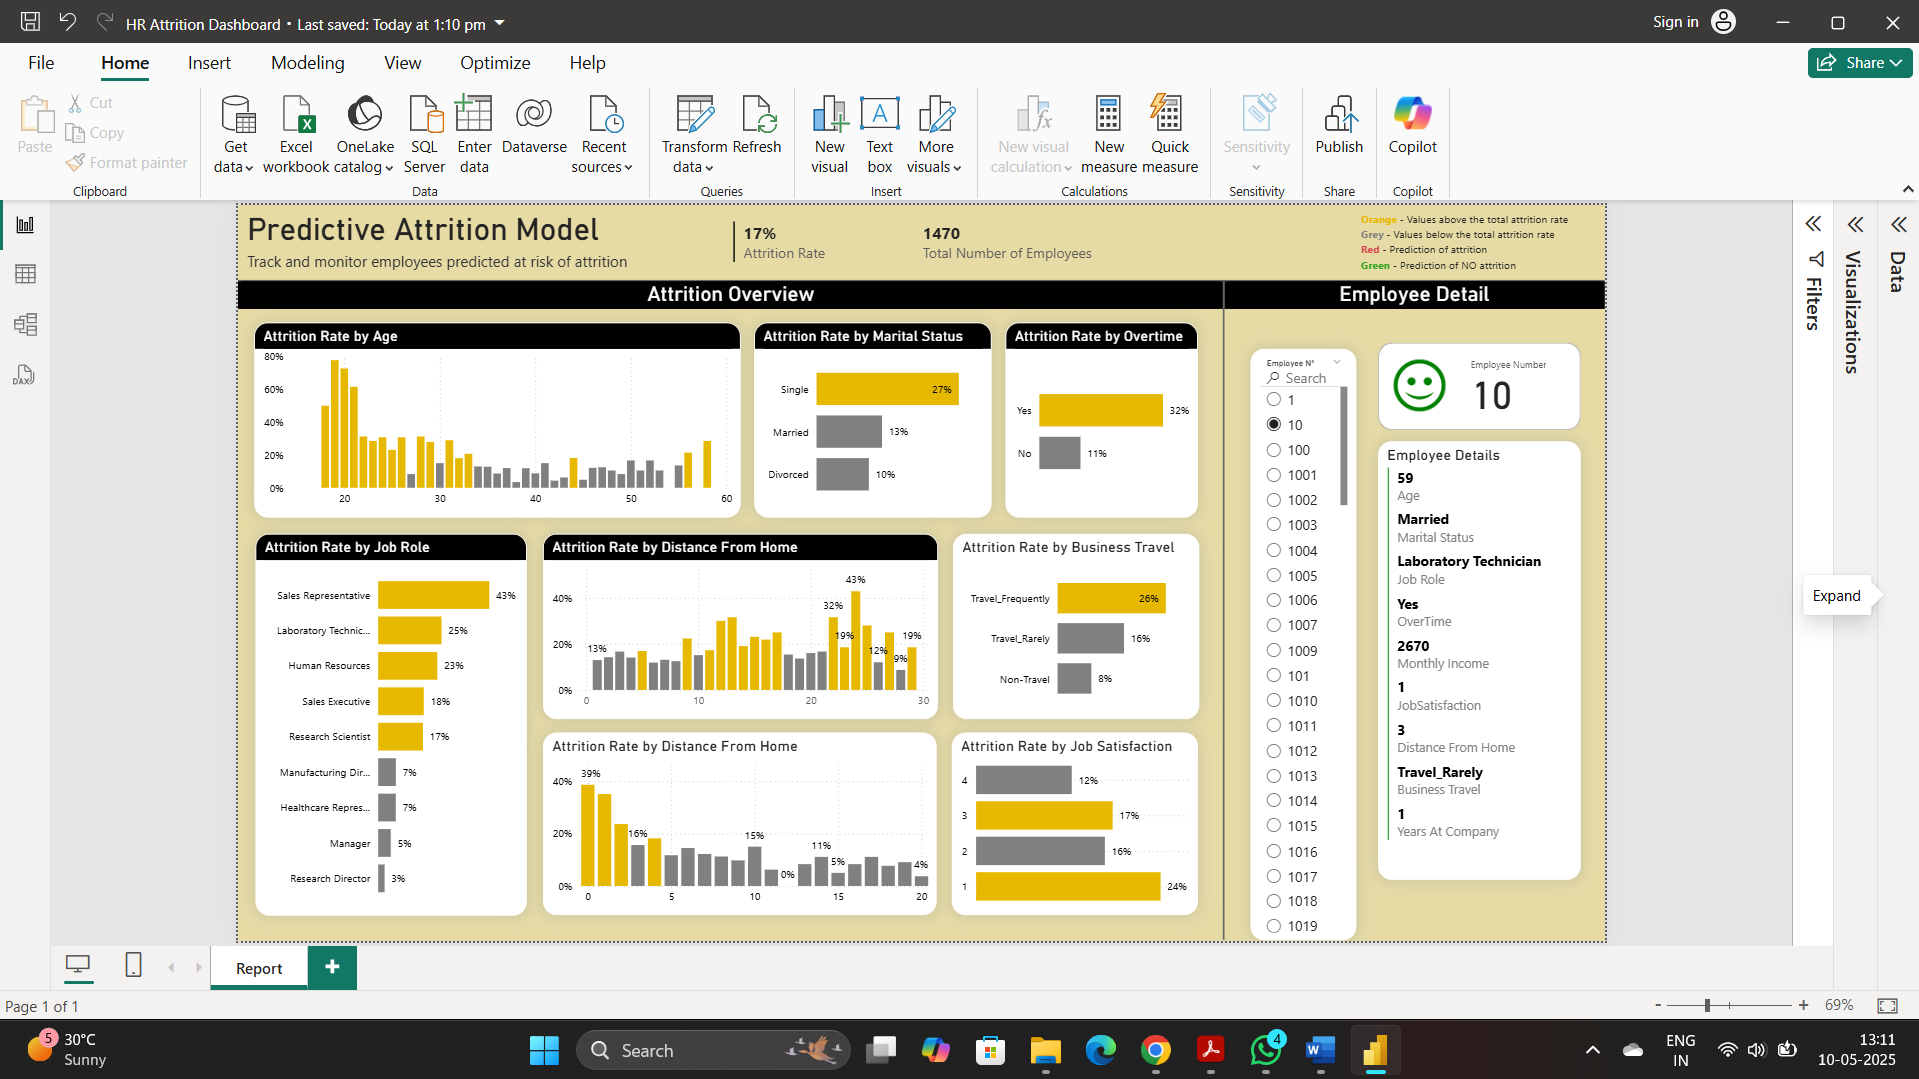

This screenshot's page, from the dashboard's own definition file:
{"tool":"powerbi","page":{"name":"Report","canvas":[1580,851],"ordinal":0},"visuals":[{"type":"shape","box":[0,70.4,1580,33.9],"z":0},{"type":"card","title":"Predictive Attrition Model","fields":{"Values":["Min(features.BusinessTravel)"]},"box":[6.3,7.2,561.5,77],"z":1000},{"type":"cardVisual","fields":{"Data":["Min(features.EmployeeNumber)"]},"box":[1306.2,147.3,258.1,125.1],"z":2000},{"type":"multiRowCard","title":"Employee Details","fields":{"Values":["Sum(features.Age)","Min(features.MaritalStatus)","Min(features.JobRole)","Min(features.OverTime)","Sum(features.MonthlyIncome)","Median(features.JobSatisfaction)","Sum(features.DistanceFromHome)","Min(features.BusinessTravel)","Sum(features.YearsAtCompany)"]},"box":[1318,272.5,234.7,507.1],"z":3000},{"type":"slicer","title":"Employees predicted at risk of attrition","fields":{"Values":["features.EmployeeNumber"]},"box":[1170.8,166,122.7,684.3],"z":4000},{"type":"shape","box":[1120,87.7,39.1,761.3],"z":5000,"group":"g1"},{"type":"clusteredColumnChart","title":"Attrition Rate by Age","fields":{"Category":["features.Age"],"Y":["Medidas.%attrition"]},"box":[18.6,136.3,562.7,225.3],"z":5000},{"type":"card","title":"Employee Detail","fields":{"Values":["Min(features.BusinessTravel)"]},"box":[1139.9,87.5,440.1,38.4],"z":6000},{"type":"card","title":"Attrition Overview","fields":{"Values":["Min(features.BusinessTravel)"]},"box":[0,87.5,1139.9,38.4],"z":7000},{"type":"multiRowCard","fields":{"Values":["Medidas.%attrition","Sum(features.EmployeeCount)"]},"box":[568.2,14.8,436.2,60.2],"z":8000},{"type":"group","id":"g1","title":"Group 1","box":[1120,87.7,39.1,761.3],"z":9000},{"type":"barChart","title":"Attrition Rate by Marital Status","fields":{"Category":["features.MaritalStatus"],"Y":["Medidas.%attrition"]},"box":[597.3,136.3,274.7,225.3],"z":10000},{"type":"barChart","title":"Attrition Rate by Job Role","fields":{"Y":["Medidas.%attrition"],"Category":["features.JobRole"]},"box":[19.7,379.9,313.6,441.4],"z":11000},{"type":"barChart","title":"Attrition Rate by Overtime","fields":{"Y":["Medidas.%attrition"],"Category":["features.OverTime"]},"box":[888,136.3,222.7,225.3],"z":12000},{"type":"barChart","title":"Attrition Rate by Job Satisfaction","fields":{"Y":["Medidas.%attrition"],"Category":["features.JobSatisfaction"]},"box":[825,609.7,284.6,211.6],"z":13000},{"type":"clusteredColumnChart","title":"Attrition Rate by Distance From Home","fields":{"Y":["Medidas.%attrition"],"Category":["features.DistanceFromHome"]},"box":[353.1,379.9,456.6,214.6],"z":14000},{"type":"barChart","title":"Attrition Rate by Business Travel","fields":{"Y":["Medidas.%attrition"],"Category":["features.BusinessTravel"]},"box":[826.5,379.9,284.6,214.6],"z":15000},{"type":"clusteredColumnChart","title":"Attrition Rate by Distance From Home","fields":{"Y":["Medidas.%attrition"],"Category":["features.YearsAtCompany"]},"box":[353.1,609.7,455.1,211.6],"z":16000},{"type":"textbox","box":[1293.2,1.3,277.7,97.8],"z":17000}]}

Visuals, with their boxes on the page's 1580x851 design canvas (x1, y1, x2, y2). These are canvas units, not pixel positions in the 1919x1079 screenshot, which may show the page scaled, cropped or inside an application window:
shape: x1=0, y1=70, x2=1580, y2=104
"Predictive Attrition Model" card: x1=6, y1=7, x2=568, y2=84
cardVisual - Min(features.EmployeeNumber): x1=1306, y1=147, x2=1564, y2=272
"Employee Details" multiRowCard: x1=1318, y1=272, x2=1553, y2=780
"Employees predicted at risk of attrition" slicer: x1=1171, y1=166, x2=1294, y2=850
shape: x1=1120, y1=88, x2=1159, y2=849
"Attrition Rate by Age" clusteredColumnChart: x1=19, y1=136, x2=581, y2=362
"Employee Detail" card: x1=1140, y1=88, x2=1580, y2=126
"Attrition Overview" card: x1=0, y1=88, x2=1140, y2=126
multiRowCard - Medidas.%attrition x Sum(features.EmployeeCount): x1=568, y1=15, x2=1004, y2=75
"Group 1" group: x1=1120, y1=88, x2=1159, y2=849
"Attrition Rate by Marital Status" barChart: x1=597, y1=136, x2=872, y2=362
"Attrition Rate by Job Role" barChart: x1=20, y1=380, x2=333, y2=821
"Attrition Rate by Overtime" barChart: x1=888, y1=136, x2=1111, y2=362
"Attrition Rate by Job Satisfaction" barChart: x1=825, y1=610, x2=1110, y2=821
"Attrition Rate by Distance From Home" clusteredColumnChart: x1=353, y1=380, x2=810, y2=594
"Attrition Rate by Business Travel" barChart: x1=826, y1=380, x2=1111, y2=594
"Attrition Rate by Distance From Home" clusteredColumnChart: x1=353, y1=610, x2=808, y2=821
textbox: x1=1293, y1=1, x2=1571, y2=99
